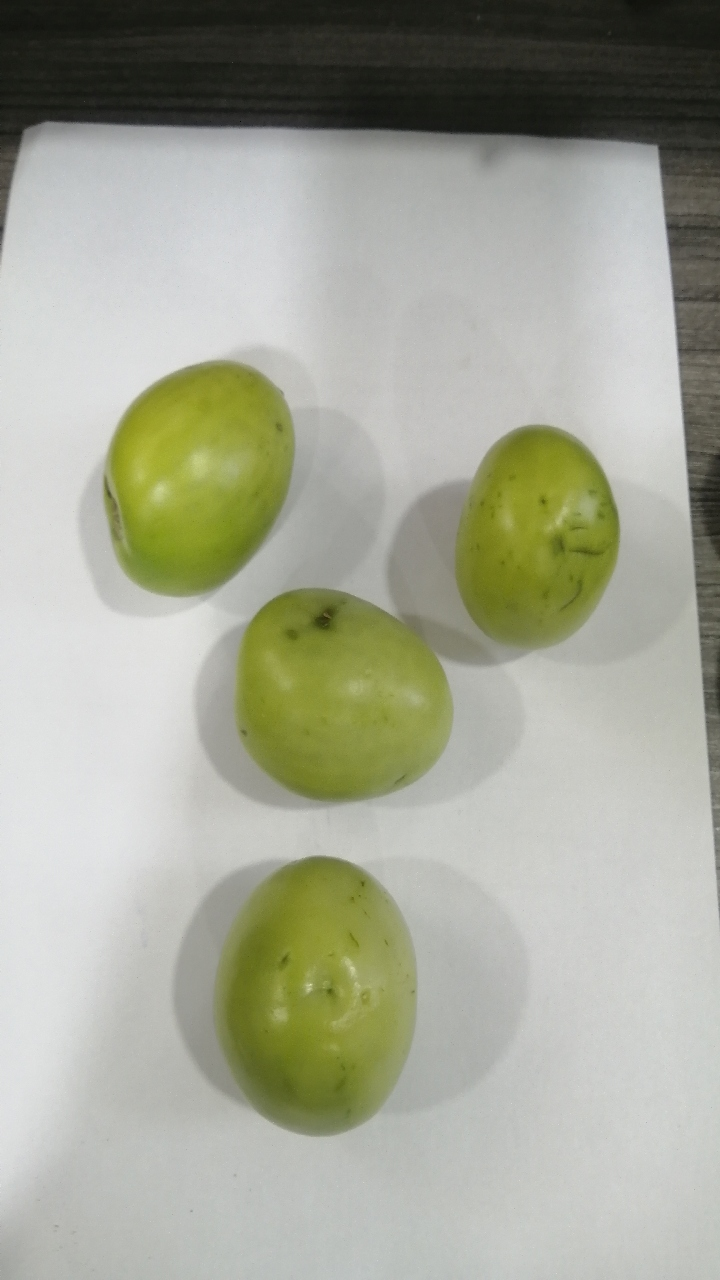tomateVerde: (201, 843, 437, 1155), (69, 332, 312, 612), (217, 572, 463, 823), (443, 392, 644, 675)
